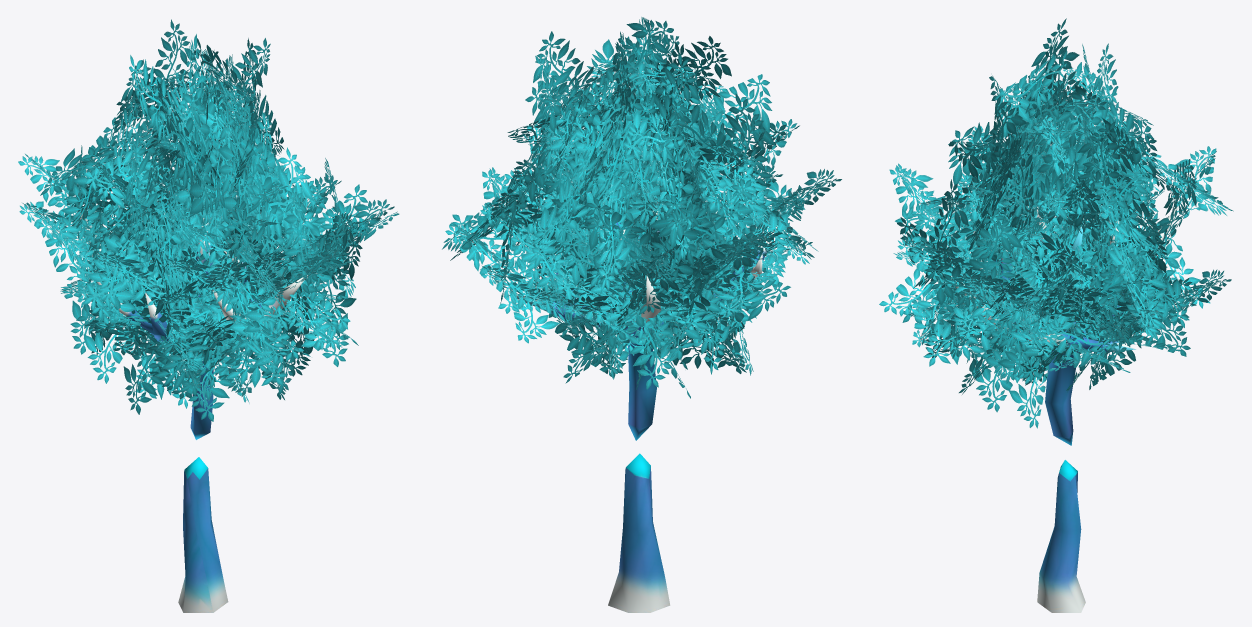
Rendered from CrystalTreeLOD.fbx.
3 renders of one model, left to right at view 1: azimuth 30°, elevation 25°; view 2: azimuth 150°, elevation 25°; view 3: azimuth 270°, elevation 25°, orthographic. The views are drawn at different scales.
Parts seen in each view (by area): view 1: IceLeaf_LOD0, CrystalTree; view 2: IceLeaf_LOD0, CrystalTree; view 3: IceLeaf_LOD0, CrystalTree.
Boxes of the visible parts, x1,y1,x2,y2 form: IceLeaf_LOD0: (18, 19, 399, 421); CrystalTree: (80, 195, 307, 612); IceLeaf_LOD0: (442, 17, 841, 398); CrystalTree: (509, 192, 777, 612); IceLeaf_LOD0: (879, 18, 1233, 428); CrystalTree: (951, 206, 1178, 612).
Size of what is drawn, in the model's own units: 53.73 by 93.03 by 54.59.
